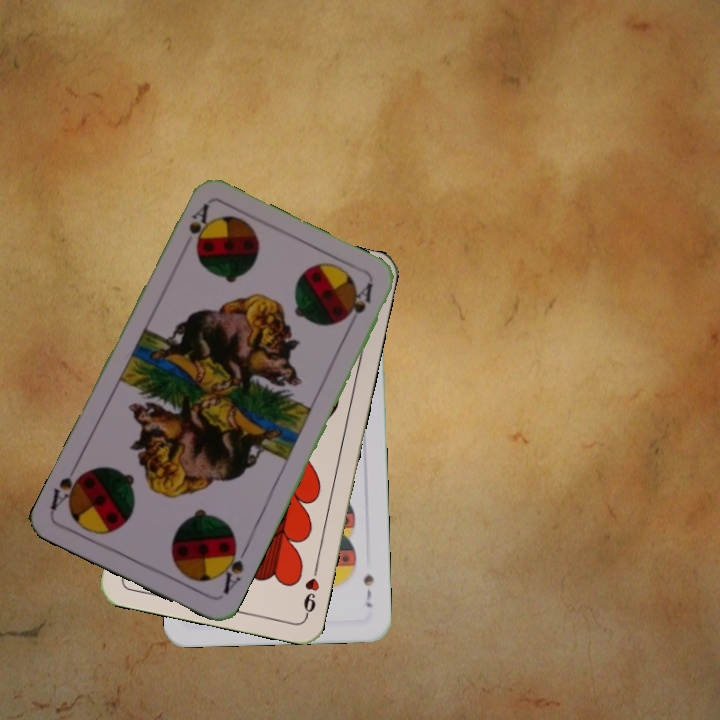H9: (299, 560, 322, 619)
S7: (359, 570, 376, 610)
SA: (214, 538, 250, 597), (184, 200, 212, 252)
